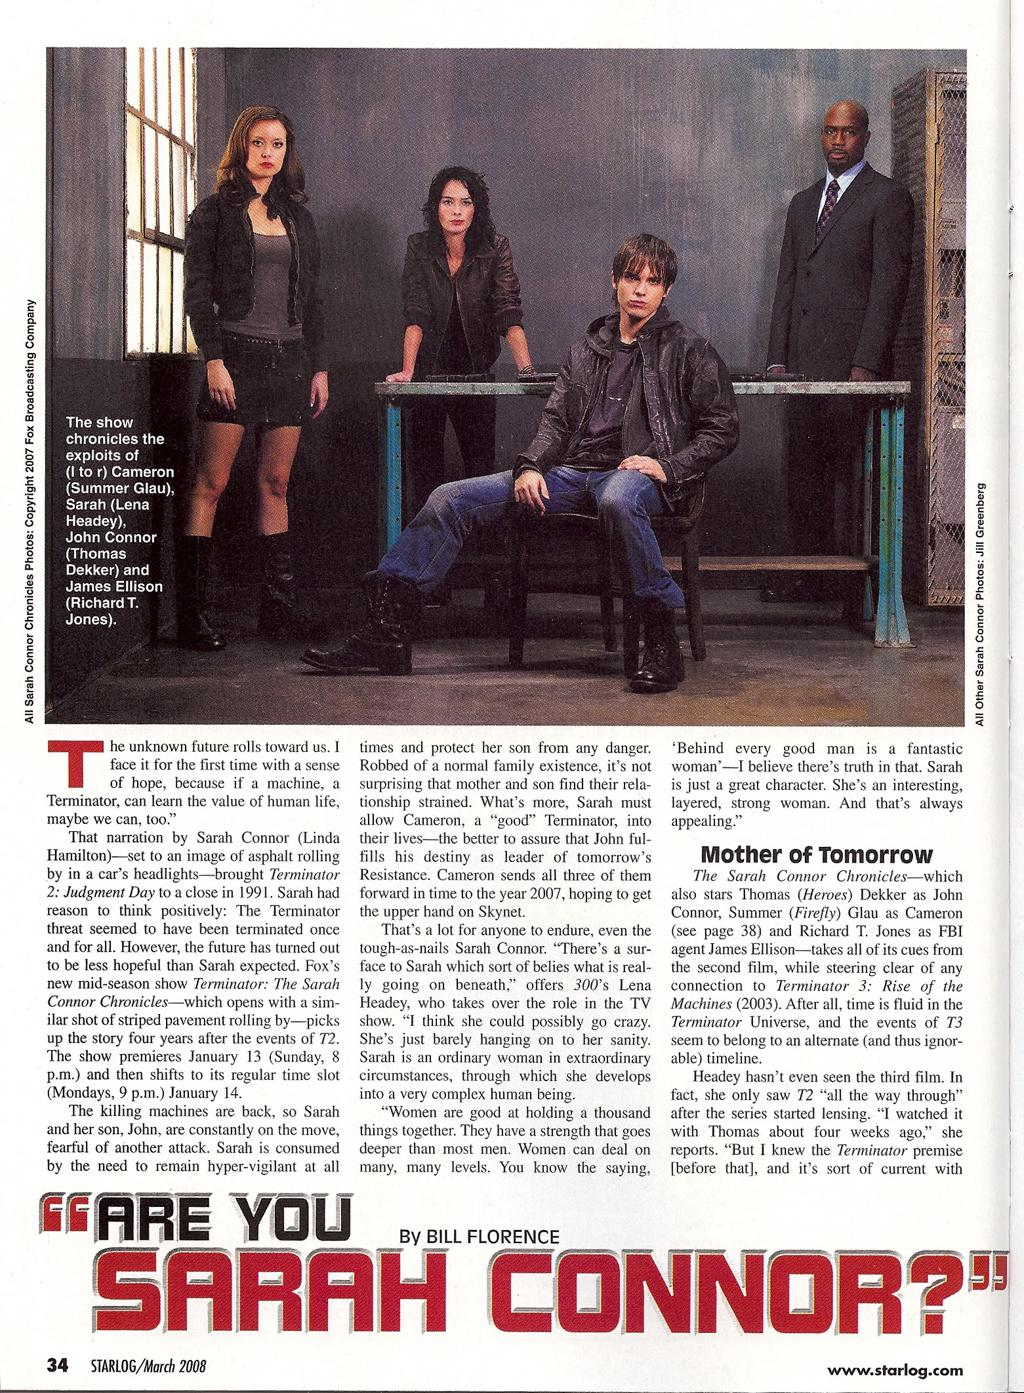face: (617, 259, 663, 318), (821, 106, 863, 166), (245, 119, 286, 177), (438, 181, 474, 233)
